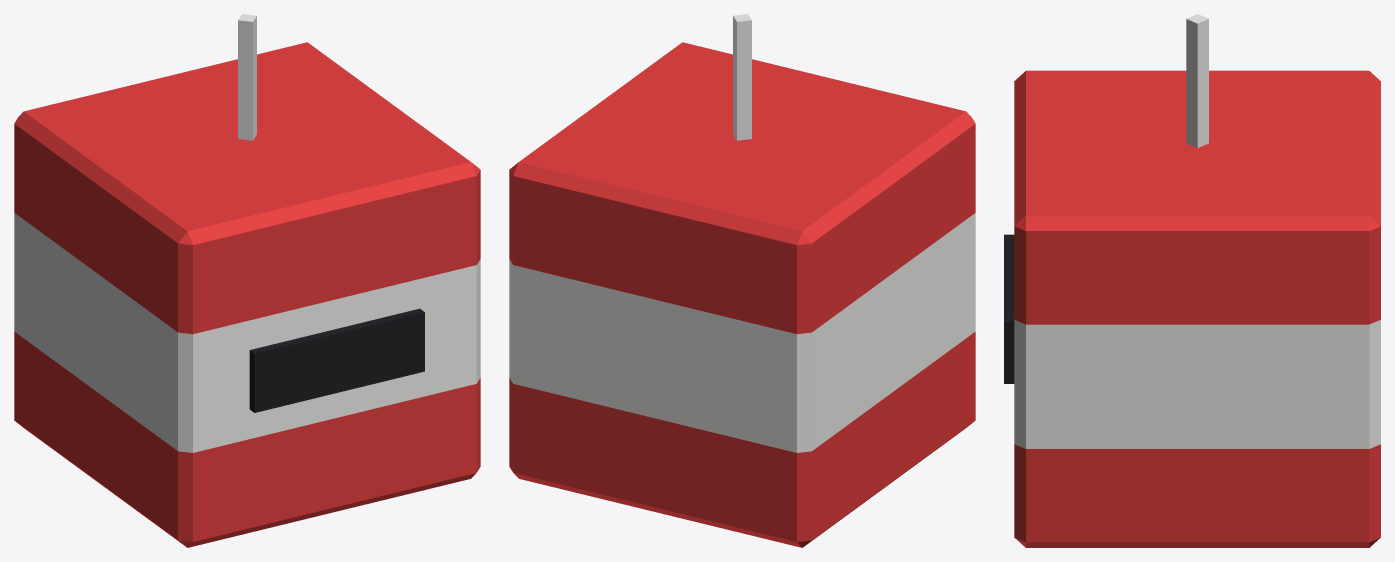
The model's file is TNT.fbx.
The picture shows the model from 3 angles, left to right: view 1: azimuth 30°, elevation 25°; view 2: azimuth 150°, elevation 25°; view 3: azimuth 270°, elevation 25°; orthographic projection. The views are drawn at different scales.
Visible parts, largest first — view 1: TNT; view 2: TNT; view 3: TNT.
Part boxes in pixels (x1=…): TNT: x1=14, y1=14, x2=480, y2=547; TNT: x1=509, y1=14, x2=975, y2=547; TNT: x1=1004, y1=14, x2=1380, y2=547.
Size of the model in its own units: 1.6 by 2.2 by 1.64.
Materials: 1 (1 with a texture image).
